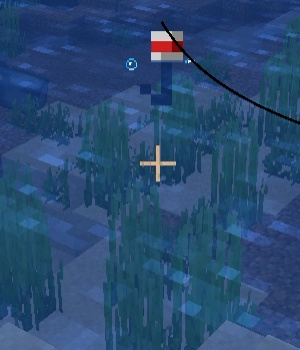up: (136, 25, 186, 109)
